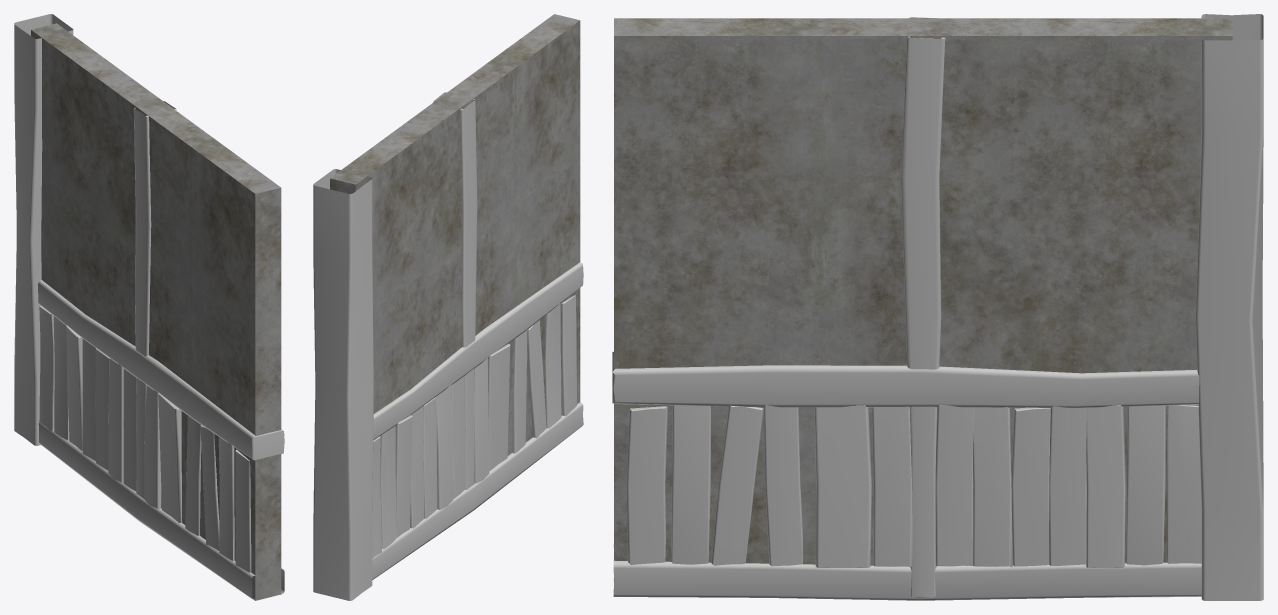
Rendered from SM_Wall31.fbx.
3 views of the same model, side by side, from view 1: azimuth 30°, elevation 25°; view 2: azimuth 150°, elevation 25°; view 3: azimuth 270°, elevation 25° (orthographic). The views are drawn at different scales.
Visible parts, largest first — view 1: SM_Wall31_LOD0; view 2: SM_Wall31_LOD0; view 3: SM_Wall31_LOD0.
Part boxes in pixels (<box>): SM_Wall31_LOD0: <box>14,14,284,600</box>; SM_Wall31_LOD0: <box>313,14,583,600</box>; SM_Wall31_LOD0: <box>612,14,1263,600</box>.
Size of the model in its own units: 33.65 by 316 by 303.
